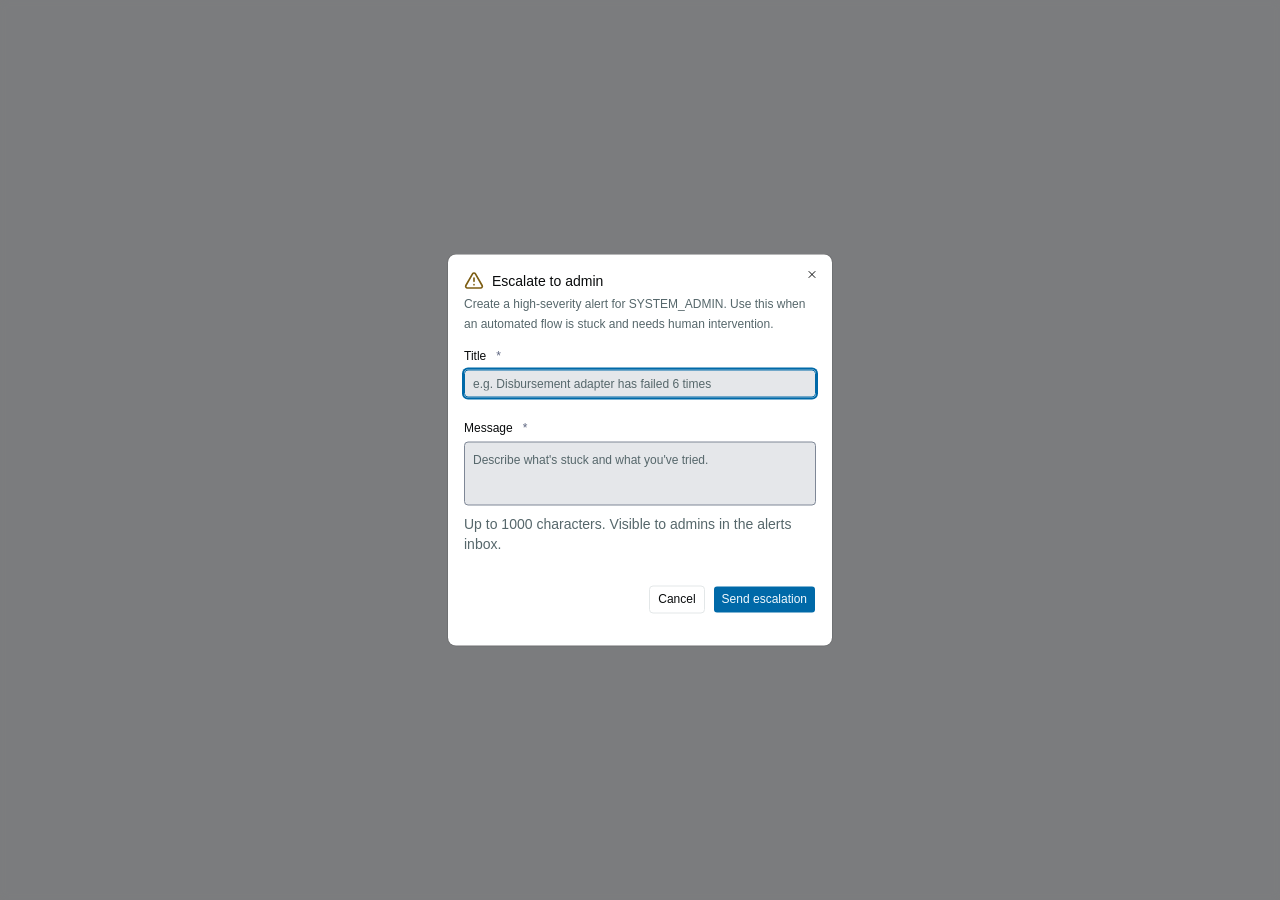
it: <EscalateToAdminDialog /> › announces validation failures in a live region on submit
Check: the dialog is shown, box [448, 254, 832, 646]
Click the button "Send escalation": coordinates (764, 600) [713, 586, 816, 614]
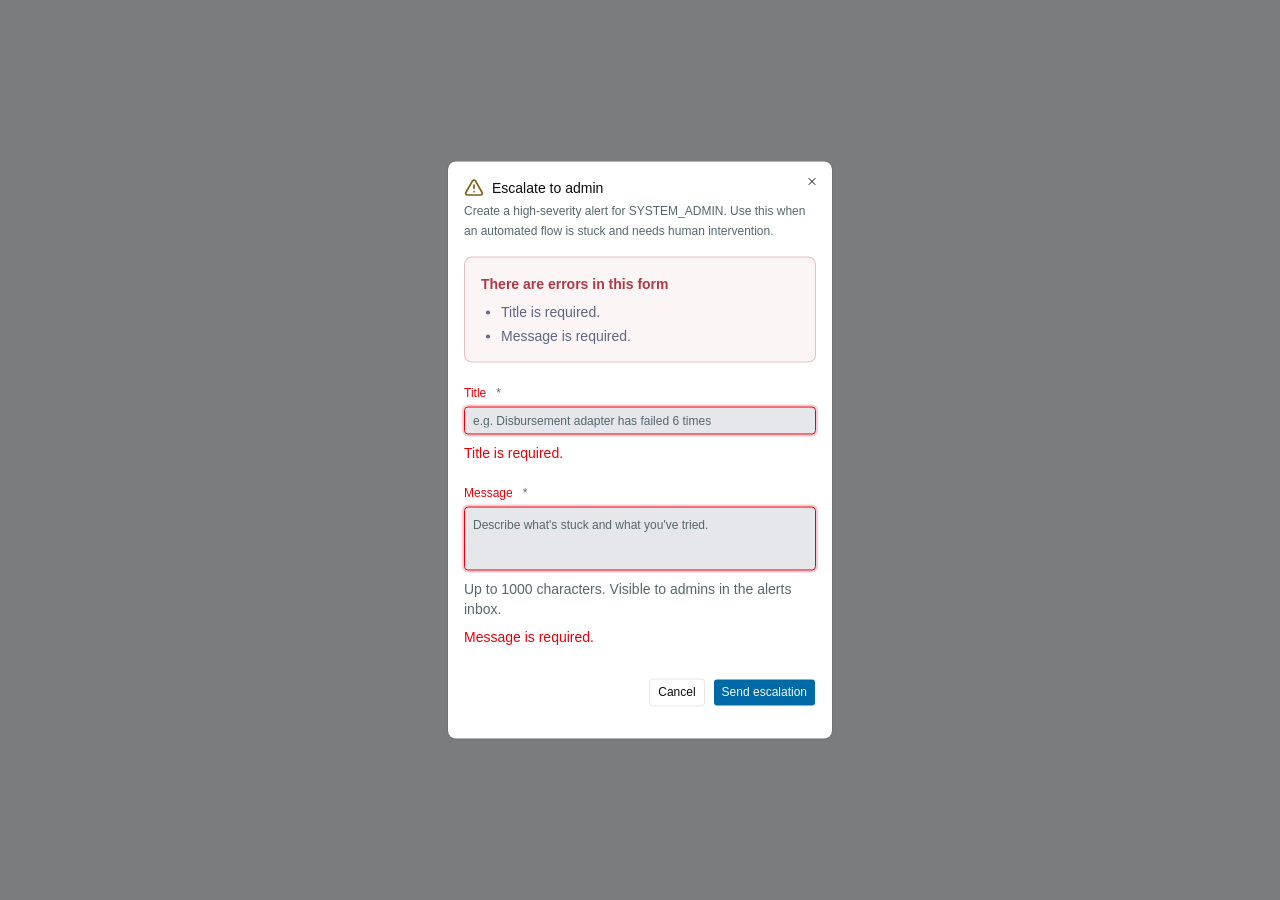
Check: the message shows "There are errors in this form", box [481, 276, 668, 292]
Check: the message shows "Title is required.", box [501, 304, 600, 320]
Check: the message shows "Message is required.", box [501, 328, 631, 344]
